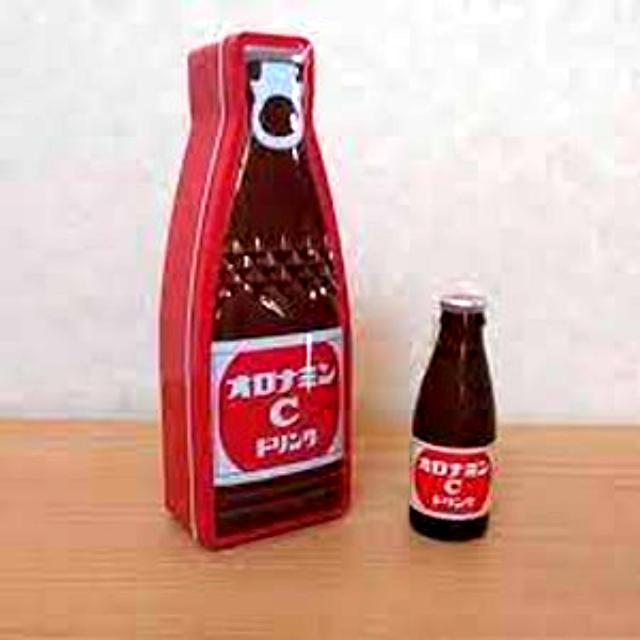Glass: (408, 296, 496, 538)
